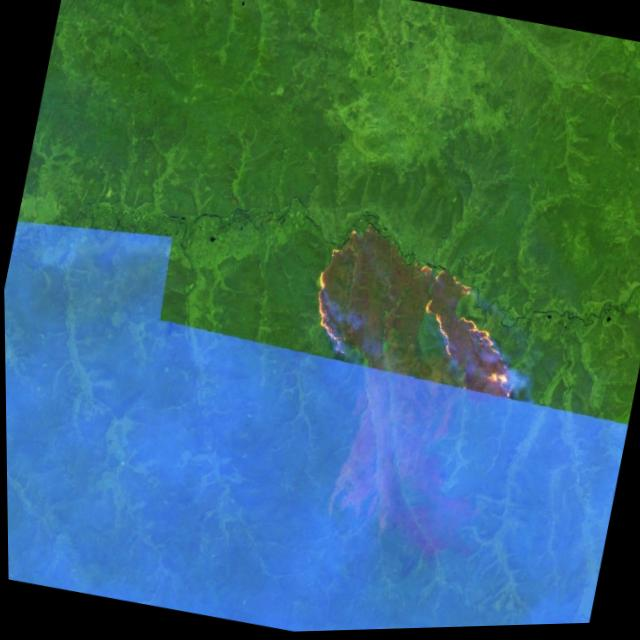fire: (294, 208, 541, 408)
